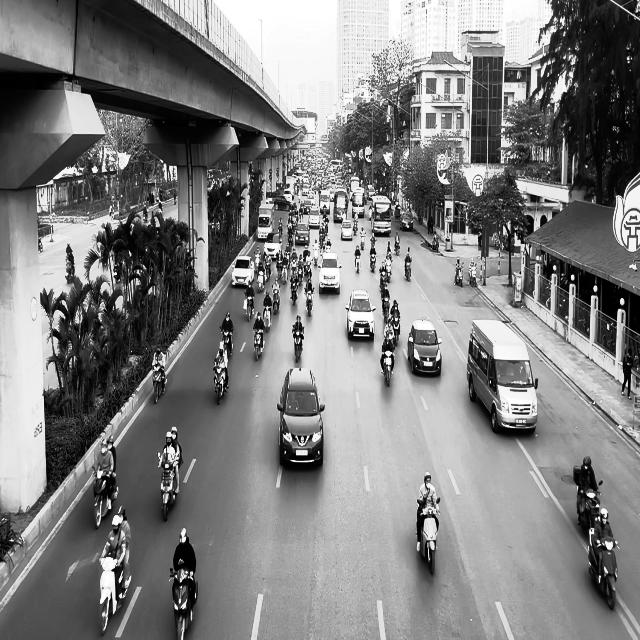car: (277, 367, 325, 467), (408, 317, 442, 376), (346, 289, 376, 341), (319, 252, 342, 294), (232, 256, 254, 287)
motorbike: (99, 556, 132, 635), (588, 528, 619, 610), (170, 566, 198, 640), (416, 496, 441, 574), (92, 466, 119, 528), (158, 451, 180, 521), (577, 480, 603, 530), (213, 362, 228, 404), (152, 366, 167, 404), (381, 348, 395, 387), (292, 326, 304, 362), (253, 328, 265, 360), (220, 328, 233, 357), (244, 294, 255, 322), (65, 257, 75, 283), (454, 263, 464, 287), (469, 265, 477, 287), (405, 258, 412, 281)
truck: (466, 319, 538, 434)
